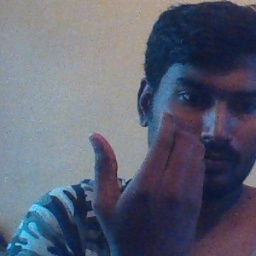U: (90, 109, 211, 241)
